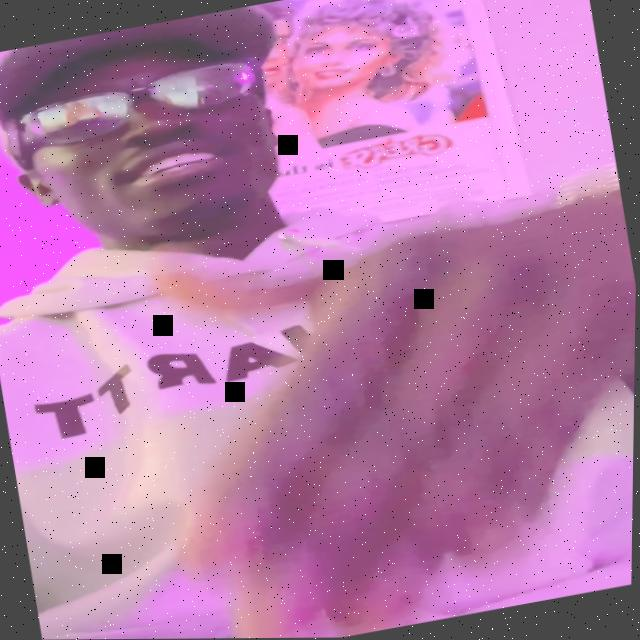Paper: (122, 187, 638, 639)
